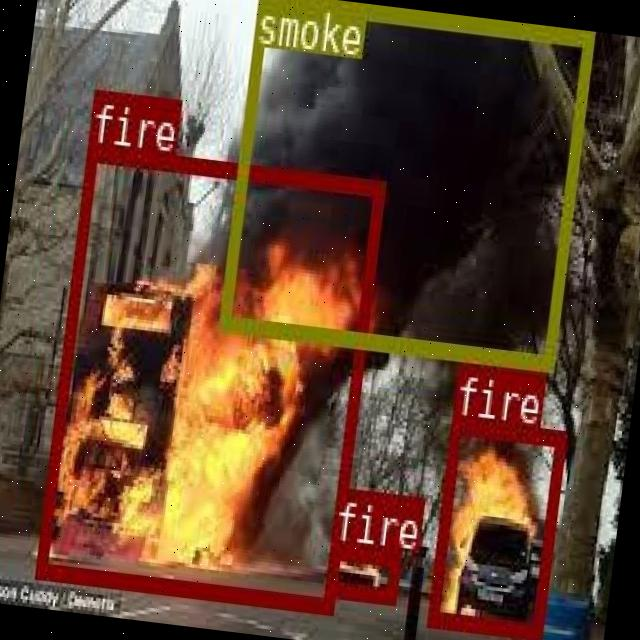fire: (35, 144, 382, 612), (425, 414, 564, 636), (324, 539, 398, 601)
smoke: (215, 0, 591, 369)
